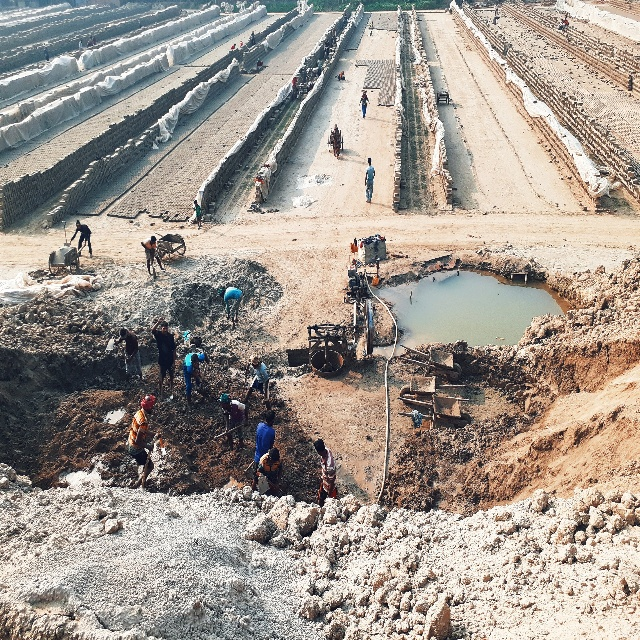Sin_guantes: (273, 481, 280, 490), (262, 391, 267, 401), (243, 418, 248, 428), (148, 443, 154, 451), (225, 426, 230, 435), (171, 362, 175, 371), (125, 357, 130, 364), (205, 358, 210, 364), (198, 377, 203, 383), (158, 316, 162, 323), (244, 370, 247, 377)
